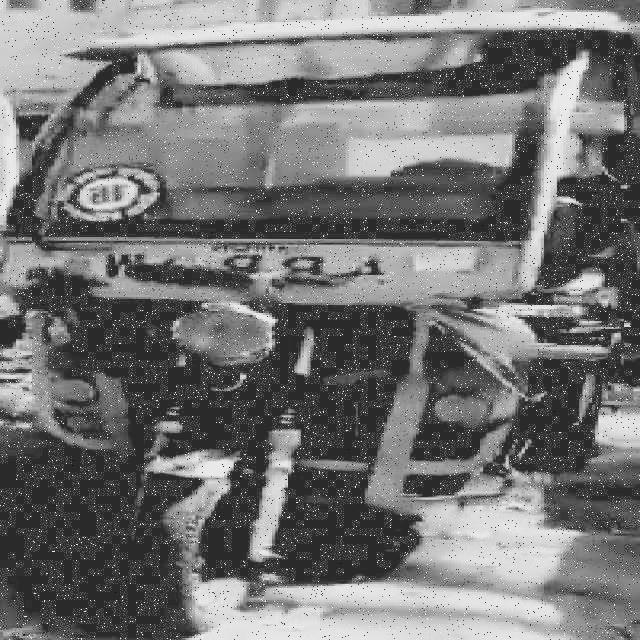Toto: (19, 13, 638, 625)
